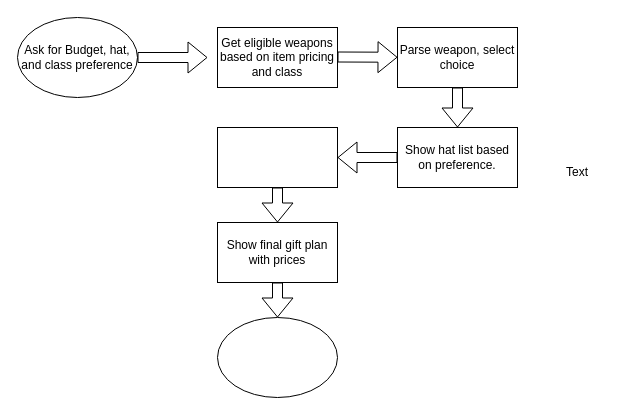
Image size: 625x415. Some labels were removed from this diagram. The shapes that lost their labels are listed below. From the top down, each one's centre as x and y in pixels, then its label:
point (277, 157): Find war paint price based on final budget
point (277, 357): End
